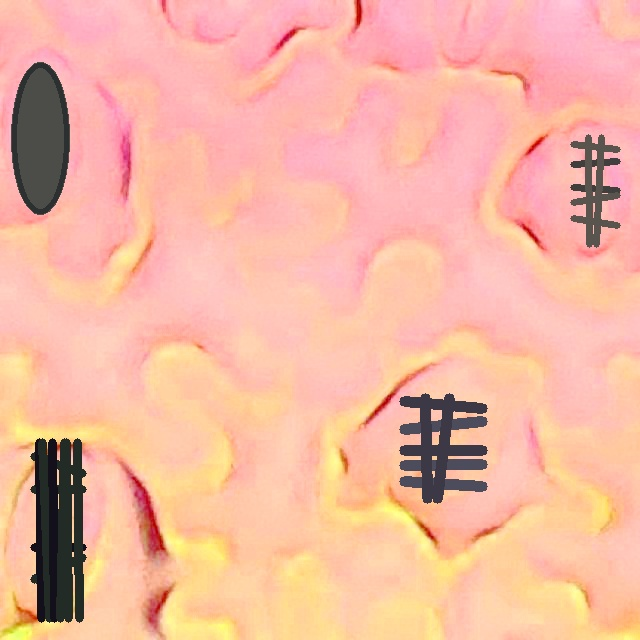close: (31, 439, 85, 621), (400, 394, 486, 502), (11, 63, 70, 214), (570, 134, 620, 247)
